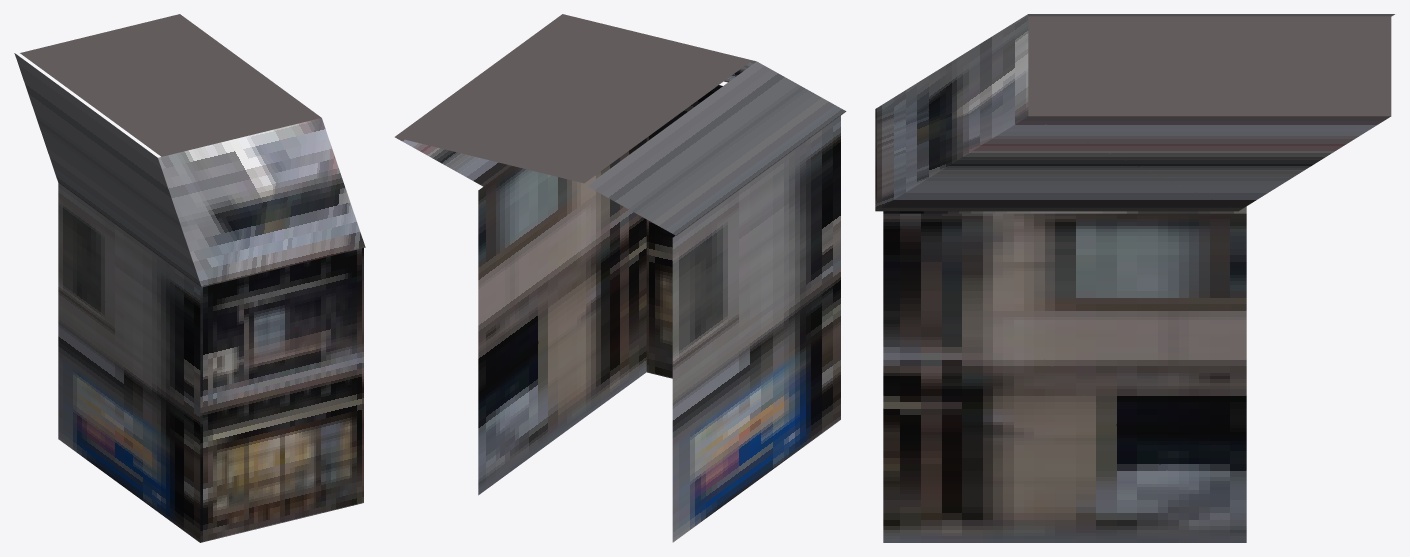
File: casa3.glb
3 views of the same model, side by side, from view 1: azimuth 30°, elevation 25°; view 2: azimuth 150°, elevation 25°; view 3: azimuth 270°, elevation 25° (orthographic). The views are drawn at different scales.
Parts seen in each view (by area): view 1: Cube; view 2: Cube; view 3: Cube.
Boxes of the visible parts, x1=… form: Cube: x1=14, y1=14, x2=365, y2=542; Cube: x1=395, y1=14, x2=846, y2=542; Cube: x1=875, y1=14, x2=1394, y2=542.
Bounding box in the file's own units: 2.19 × 3.97 × 4.3.
1 material, 1 textured.
